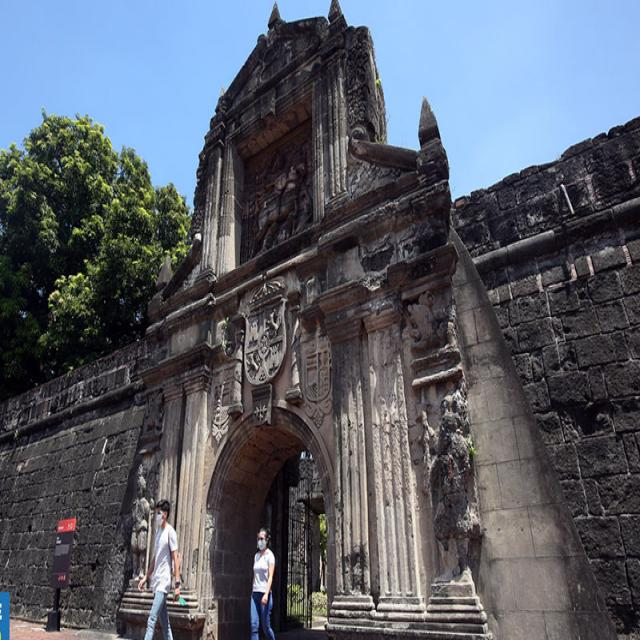Fort Santiago: (0, 0, 640, 640)
